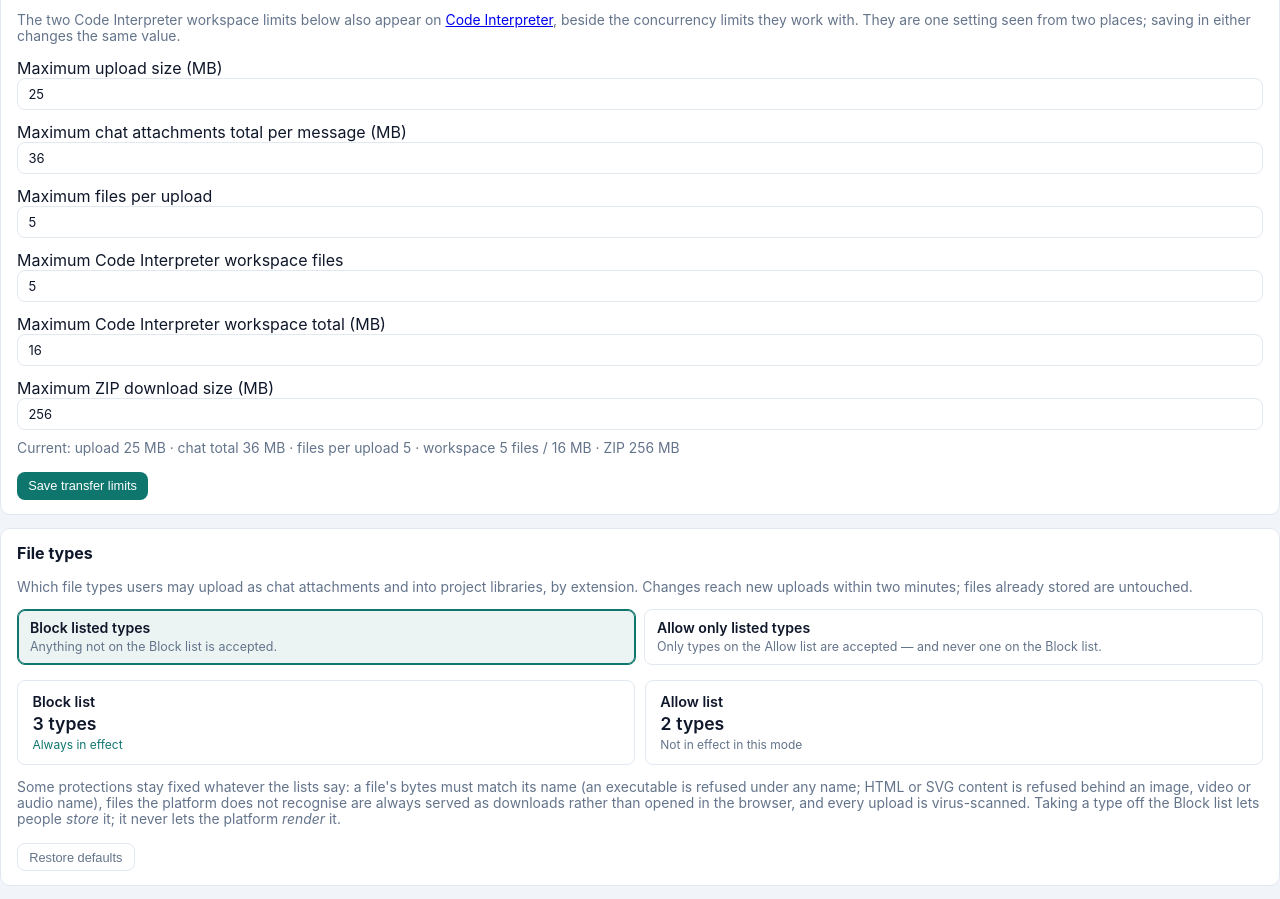
it: the File types card › shows the server's reason on the card when a mode change is refused, and keeps the mode
The width and height of the screenshot is (1280, 899).
Click the button that starts with "Allow only listed types".
click(954, 637)  # box [644,609,1263,665]
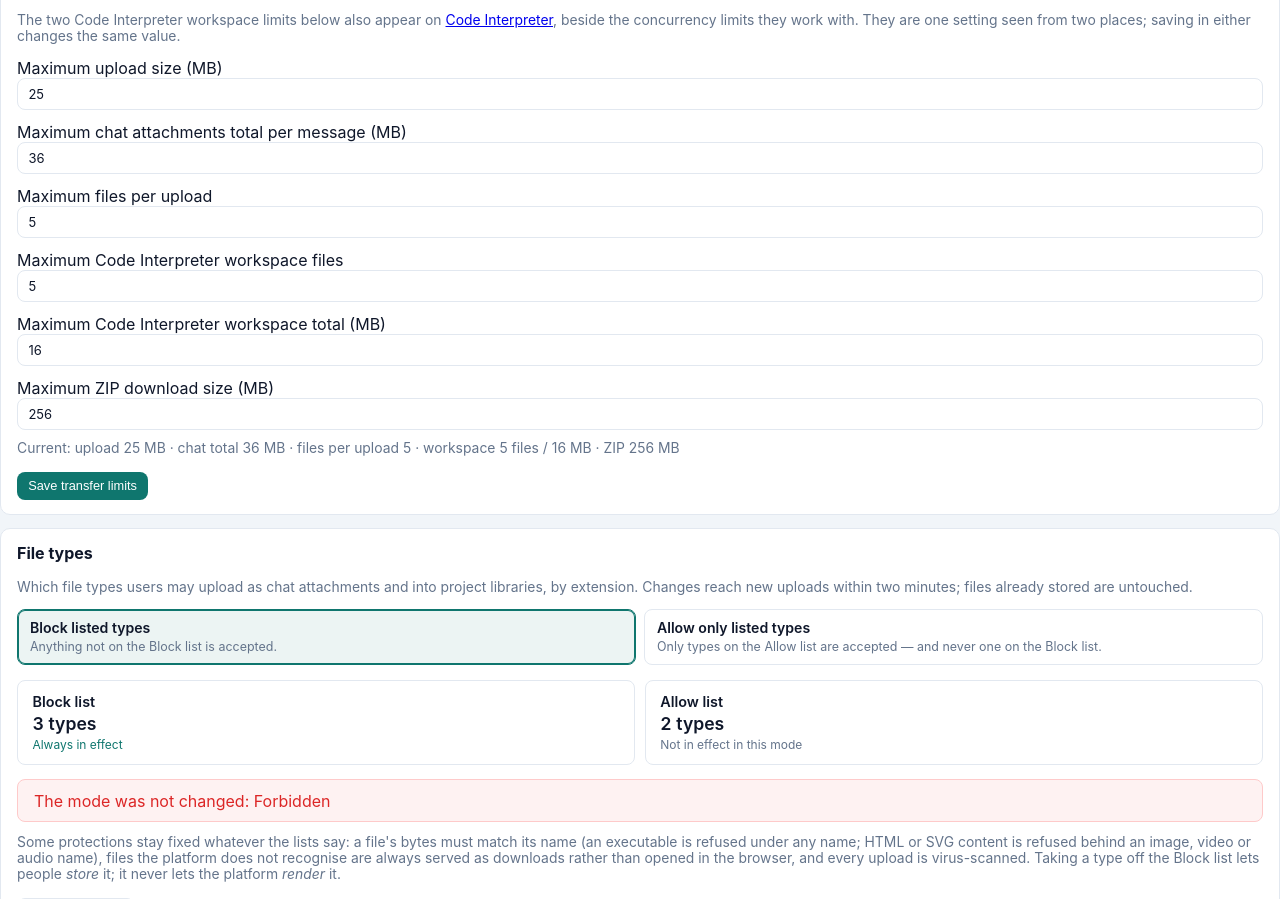
Expected: the text "The mode was not changed: Forbidden" is shown, [17,780,1263,822]
